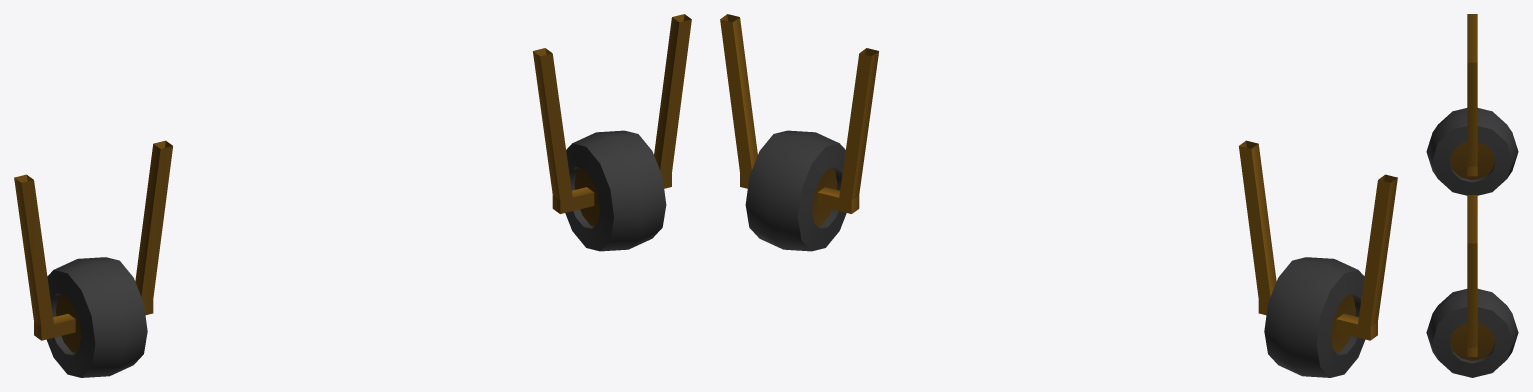
Rendered from Llantas1.obj.
The picture shows the model from 3 angles, left to right: view 1: azimuth 30°, elevation 25°; view 2: azimuth 150°, elevation 25°; view 3: azimuth 270°, elevation 25°; orthographic projection. The views are drawn at different scales.
Parts seen in each view (by area): view 1: Llantas2; view 2: Llantas2; view 3: Llantas2.
Boxes of the visible parts, x1,y1,x2,y2 form: Llantas2: (14, 14, 691, 377); Llantas2: (720, 14, 1397, 377); Llantas2: (1426, 14, 1518, 377).
Size of the model in its own units: 51.71 by 15.47 by 8.61.
1 material, 1 textured.
